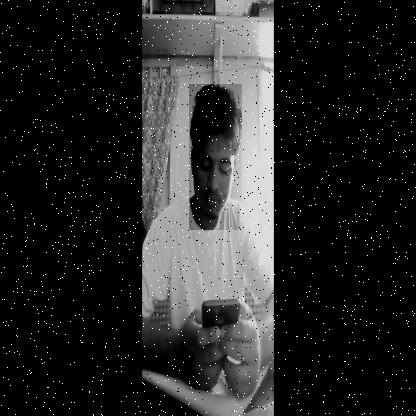Normal: (189, 84, 242, 230)
